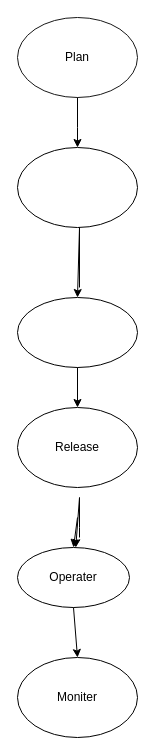
This 155x755 diagram has some shape labels left out. The centre of each missing label's shape, as x and y in pixels:
"Develop" belongs at point 77,187.
"Text" belongs at point 77,332.
